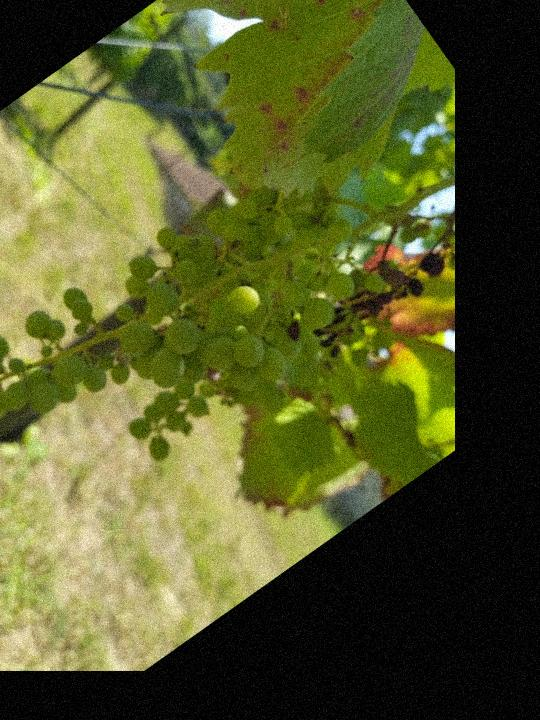grape: (0, 102, 416, 583), (301, 224, 470, 374)
